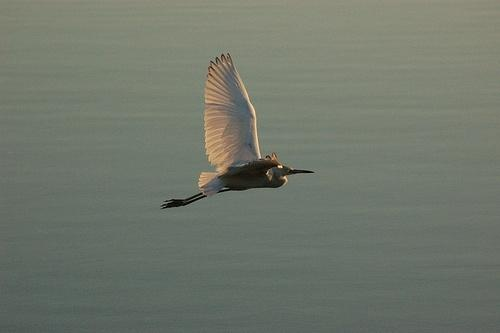bird: (163, 52, 313, 210)
